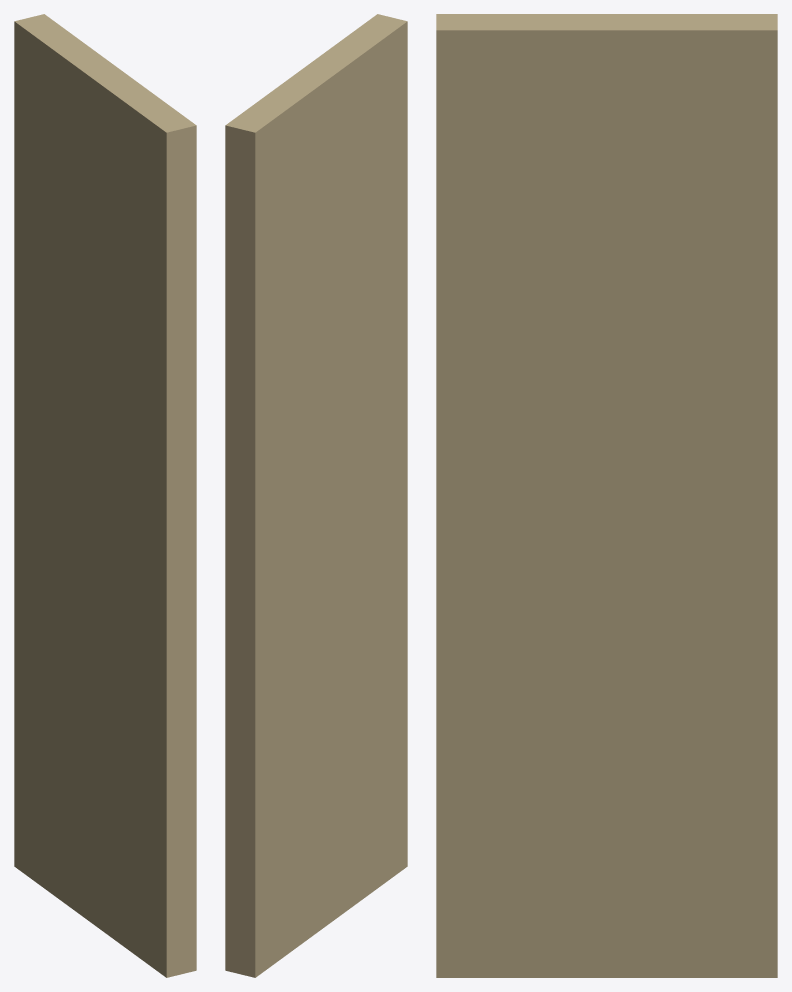
3 renders of one model, left to right at view 1: azimuth 30°, elevation 25°; view 2: azimuth 150°, elevation 25°; view 3: azimuth 270°, elevation 25°, orthographic. The views are drawn at different scales.
Parts seen in each view (by area): view 1: GF-W035; view 2: GF-W035; view 3: GF-W035.
Part boxes in pixels (x1,y1,x2,y2): GF-W035: (14, 14, 196, 977); GF-W035: (225, 14, 407, 977); GF-W035: (436, 14, 777, 977).
Size of the model in its own units: 0.09 by 2.42 by 0.79.
